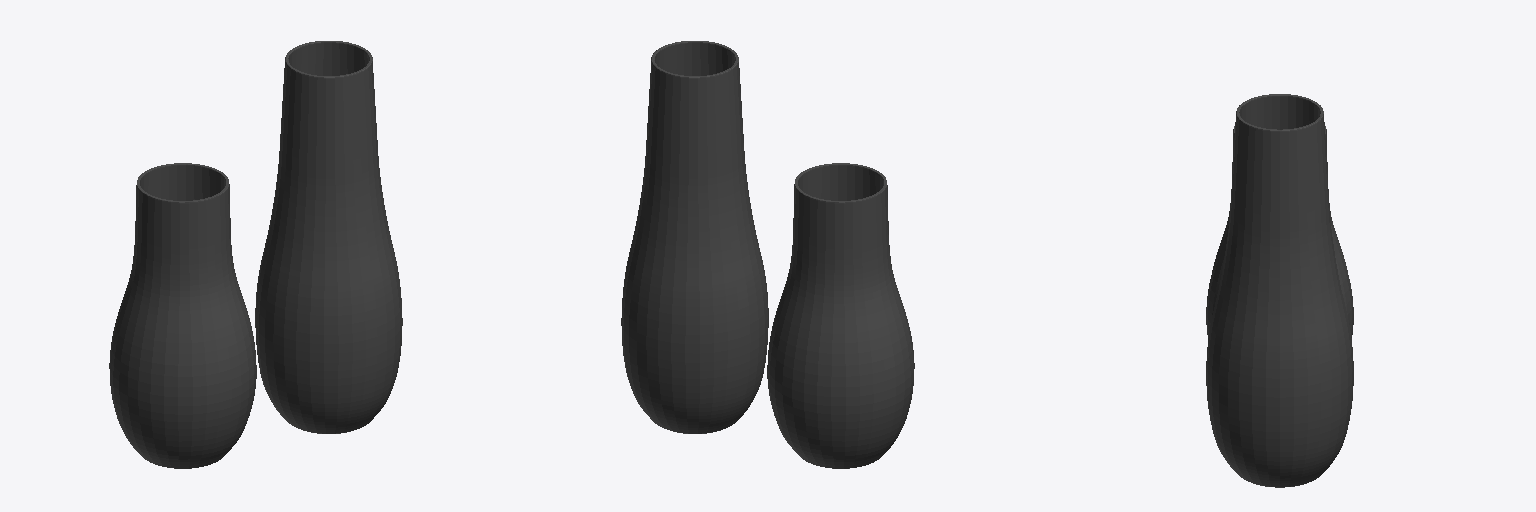
The model's file is Pure_Wood_Floor_Vases_Set_of-149389.obj.
3 renders of one model, left to right at view 1: azimuth 30°, elevation 25°; view 2: azimuth 150°, elevation 25°; view 3: azimuth 270°, elevation 25°, orthographic.
Visible parts, largest first — view 1: PureWoodFloorVases2, PureWoodFloorVases1; view 2: PureWoodFloorVases2, PureWoodFloorVases1; view 3: PureWoodFloorVases2, PureWoodFloorVases1.
Boxes of the visible parts, x1,y1,x2,y2 form: PureWoodFloorVases2: [255, 41, 402, 433]; PureWoodFloorVases1: [109, 163, 256, 468]; PureWoodFloorVases2: [621, 41, 768, 433]; PureWoodFloorVases1: [767, 163, 914, 468]; PureWoodFloorVases2: [1206, 94, 1353, 487]; PureWoodFloorVases1: [1206, 126, 1353, 337].
Size of the model in its own units: 598 by 749 by 279.